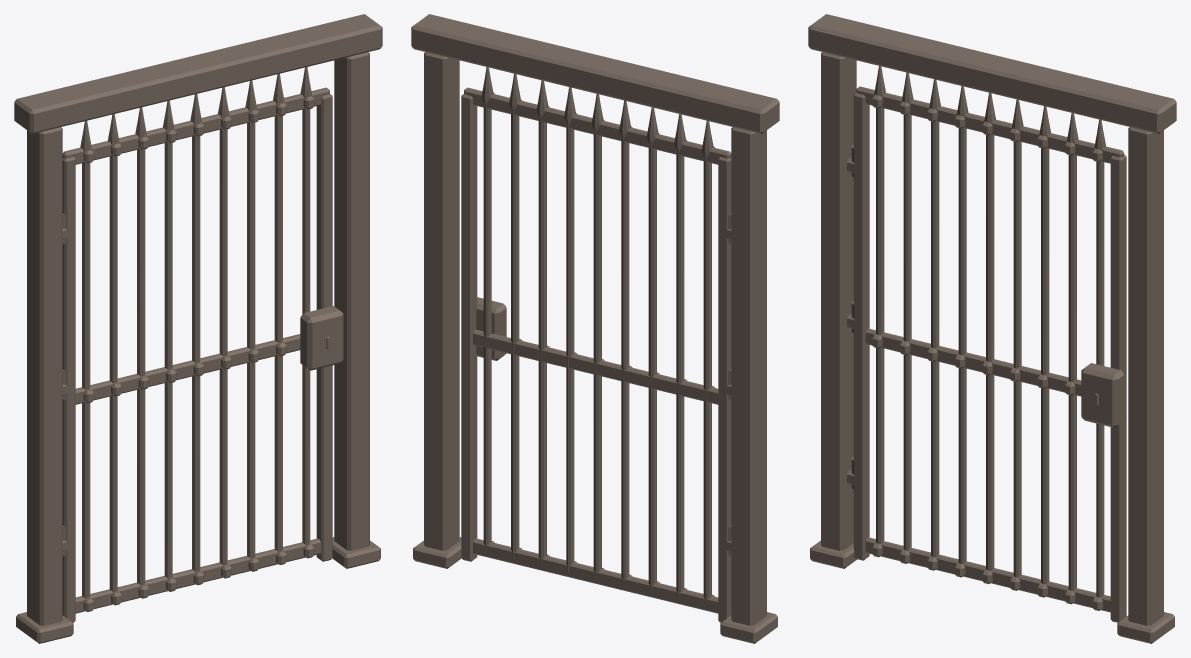
File: cage_grate.glb
3 renders of one model, left to right at view 1: azimuth 30°, elevation 25°; view 2: azimuth 150°, elevation 25°; view 3: azimuth 330°, elevation 25°, orthographic.
Parts seen in each view (by area): view 1: grate_door, cage_grate_frame; view 2: grate_door, cage_grate_frame; view 3: grate_door, cage_grate_frame.
Part boxes in pixels (box(x1,y1,x2,y2)): grate_door: box(62, 67, 343, 622); cage_grate_frame: box(14, 14, 382, 643); grate_door: box(461, 67, 731, 622); cage_grate_frame: box(411, 14, 779, 643); grate_door: box(851, 66, 1126, 622); cage_grate_frame: box(808, 14, 1176, 643).
Size of the model in its own units: 1.54 by 2.22 by 0.19.
